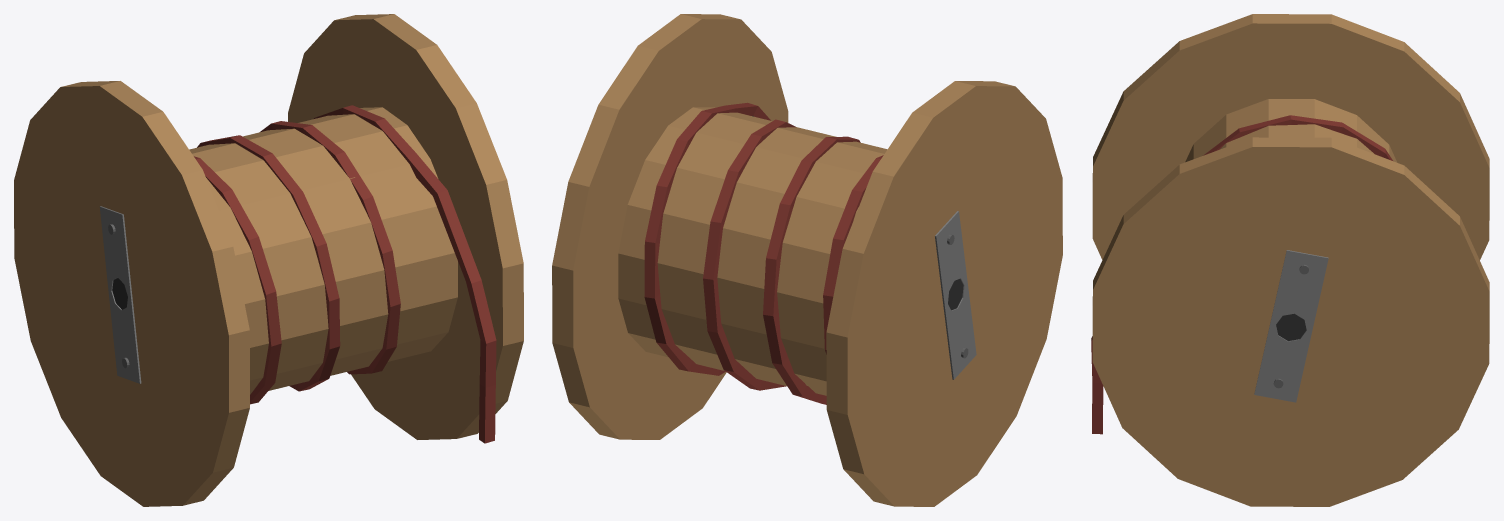
The model's file is Cable_Reel.fbx.
3 views of the same model, side by side, from view 1: azimuth 30°, elevation 25°; view 2: azimuth 150°, elevation 25°; view 3: azimuth 270°, elevation 25° (orthographic). The views are drawn at different scales.
Parts seen in each view (by area): view 1: Cable_Reel; view 2: Cable_Reel; view 3: Cable_Reel.
Part boxes in pixels (x1,y1,x2,y2): Cable_Reel: [14, 14, 523, 506]; Cable_Reel: [552, 14, 1062, 506]; Cable_Reel: [1091, 14, 1489, 506].
Bounding box in the file's own units: 0.9267 × 1.14 × 1.14.
